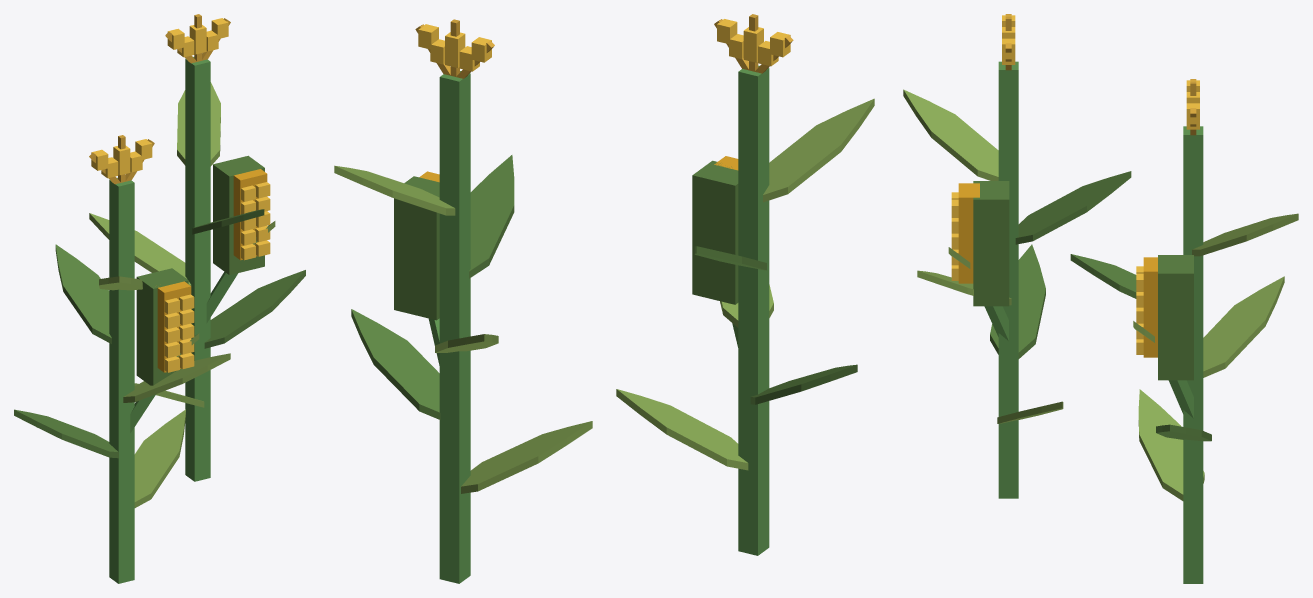
Rendered from crop_corn_mature.glb.
The picture shows the model from 3 angles, left to right: view 1: azimuth 30°, elevation 25°; view 2: azimuth 150°, elevation 25°; view 3: azimuth 270°, elevation 25°; orthographic projection. The views are drawn at different scales.
Visible parts, largest first — view 1: body__green2.004, body__leaf.003, body__leaf2.005, body__yellow2.002, body__yellow, body__hay.002; view 2: body__green2.004, body__leaf.003, body__leaf2.005, body__yellow2.002, body__hay.002; view 3: body__leaf.003, body__green2.004, body__leaf2.005, body__yellow, body__yellow2.002.
Part boxes in pixels (x1,y1,x2,y2): body__green2.004: [109, 57, 238, 583]; body__leaf.003: [14, 155, 305, 458]; body__leaf2.005: [89, 82, 275, 507]; body__yellow2.002: [91, 18, 270, 372]; body__yellow: [157, 169, 267, 372]; body__hay.002: [89, 14, 230, 184]; body__green2.004: [428, 65, 769, 583]; body__leaf.003: [351, 155, 857, 419]; body__leaf2.005: [334, 98, 874, 493]; body__yellow2.002: [418, 19, 790, 71]; body__hay.002: [415, 14, 793, 78]; body__leaf.003: [973, 171, 1211, 441]; body__green2.004: [984, 61, 1203, 583]; body__leaf2.005: [903, 89, 1298, 500]; body__yellow: [958, 183, 1157, 357]; body__yellow2.002: [951, 15, 1199, 354].
Size of the model in its own units: 0.7919 by 0.98 by 0.7061.
